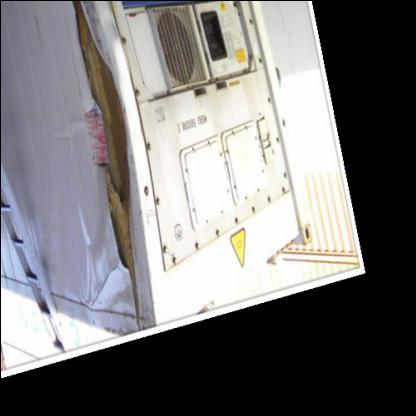Damage: (74, 7, 167, 320)
